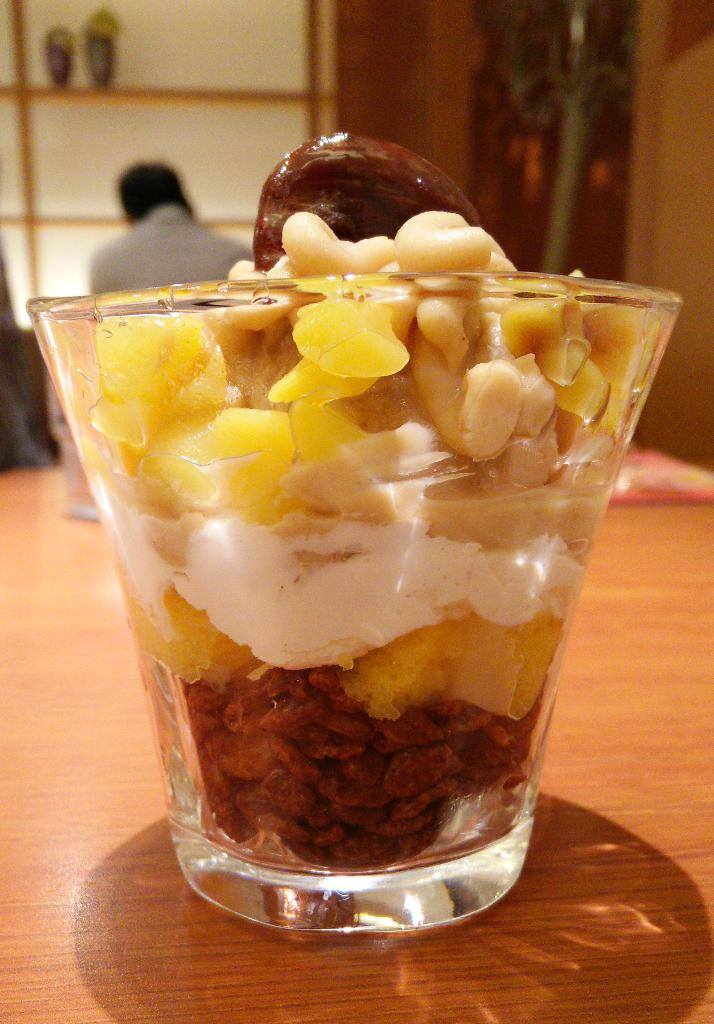person: (113, 156, 197, 230)
